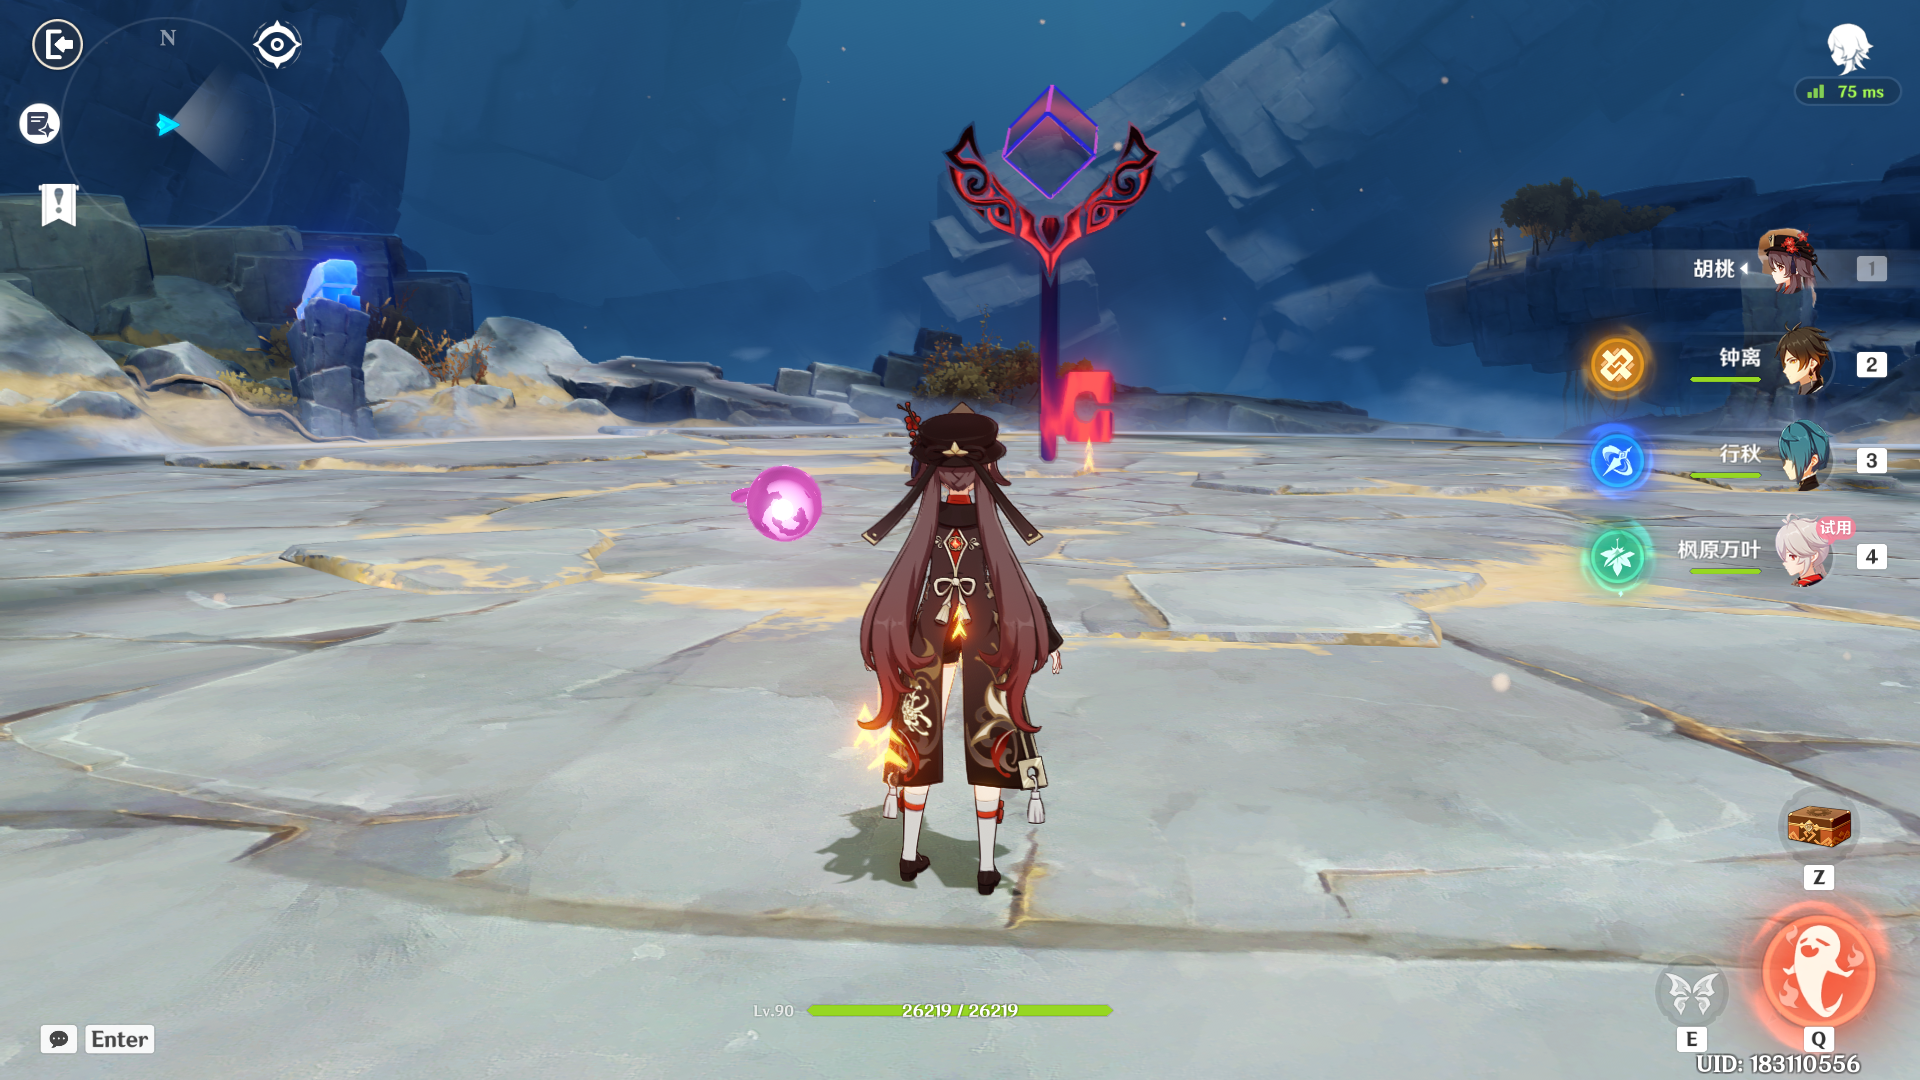character: (800, 396, 1109, 899)
